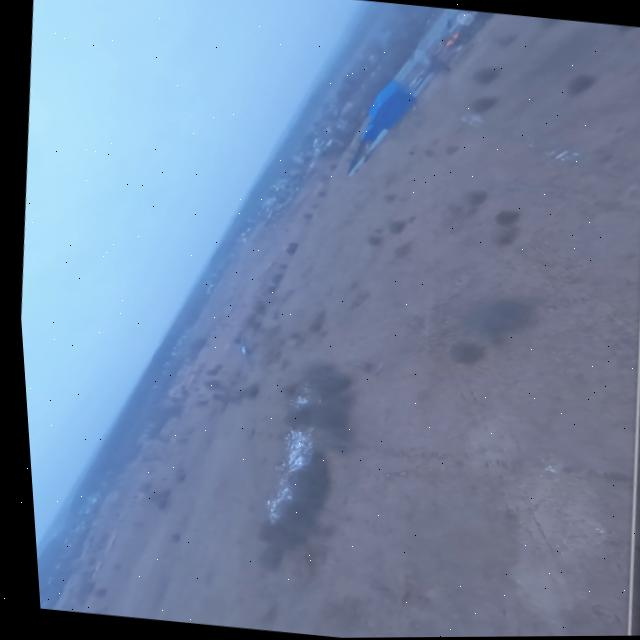planedrone: (232, 330, 262, 374)
